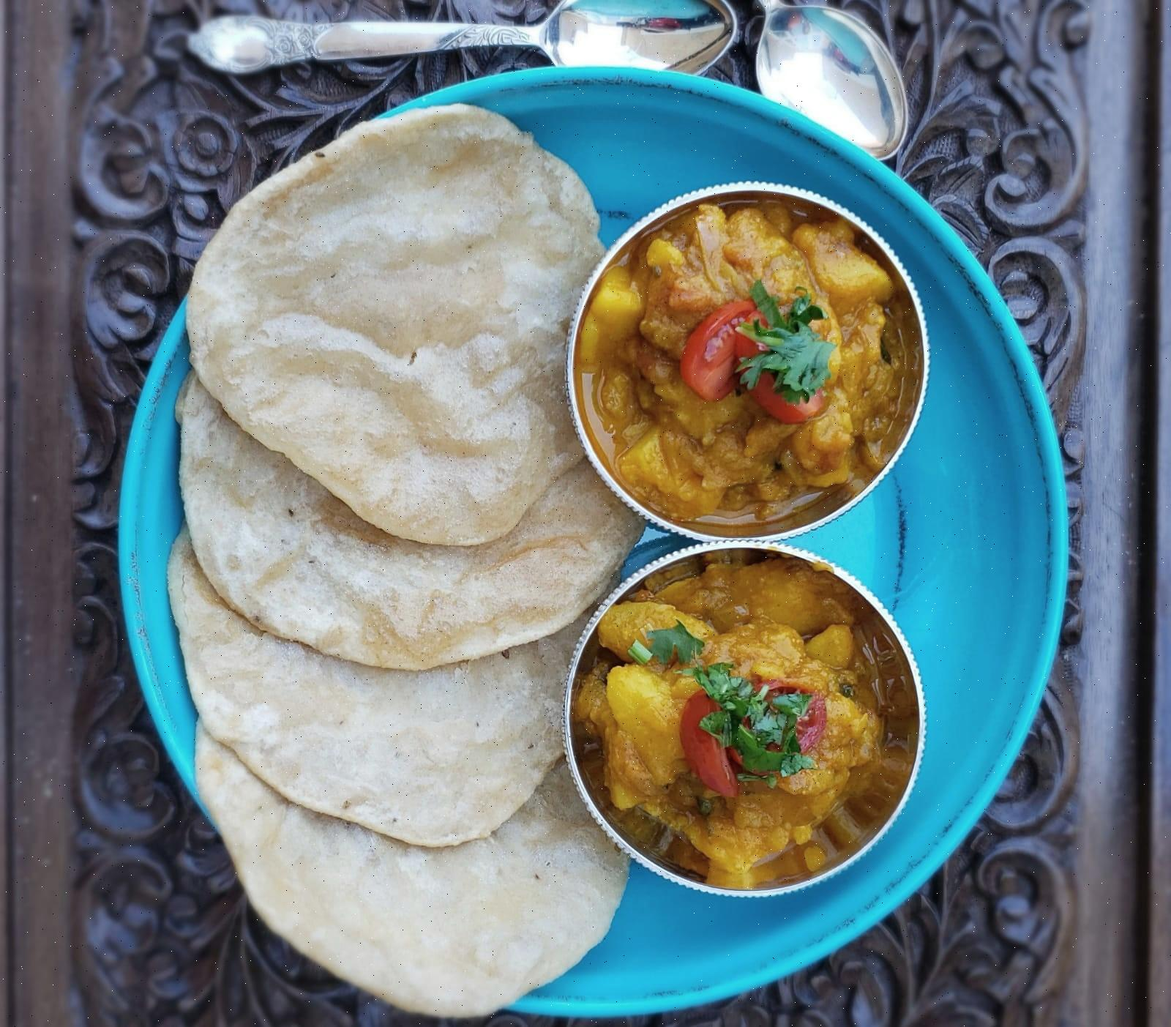puri: (183, 129, 576, 1015)
